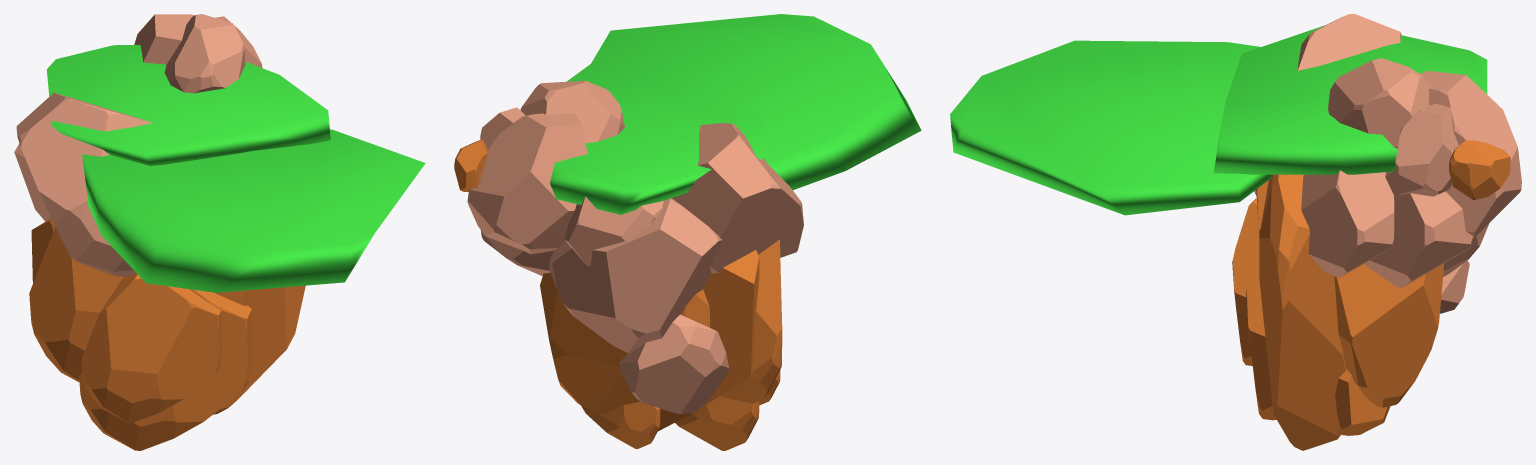
File: islands_ver6.fbx
3 renders of one model, left to right at view 1: azimuth 30°, elevation 25°; view 2: azimuth 150°, elevation 25°; view 3: azimuth 270°, elevation 25°, orthographic. The views are drawn at different scales.
Visible parts, largest first — view 1: flat.002; view 2: flat.002; view 3: flat.002.
Boxes of the visible parts, left/top/right/bottom form: flat.002: left=14, top=14, right=425, bottom=450; flat.002: left=454, top=14, right=921, bottom=450; flat.002: left=950, top=14, right=1521, bottom=450.
Size of the model in its own units: 545 by 658 by 826.
